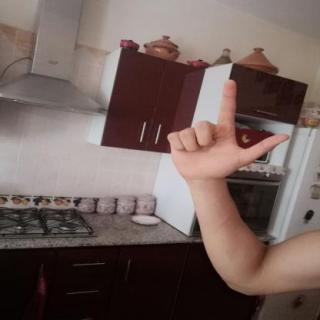LAAM: (158, 74, 297, 187)
